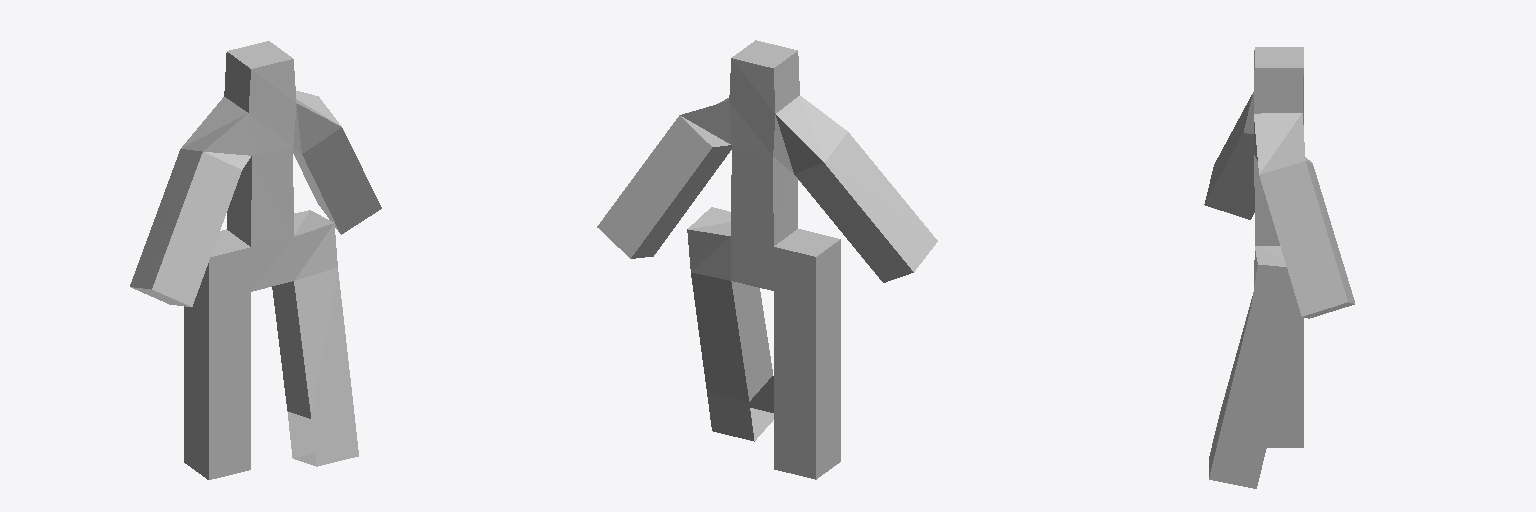
Rendered from cuboid_000003.obj.
3 renders of one model, left to right at view 1: azimuth 30°, elevation 25°; view 2: azimuth 150°, elevation 25°; view 3: azimuth 270°, elevation 25°, orthographic.
Parts seen in each view (by area): view 1: Cube; view 2: Cube; view 3: Cube.
Boxes of the visible parts, <box> form: Cube: <box>130,41,381,479</box>; Cube: <box>597,40,937,479</box>; Cube: <box>1204,47,1354,488</box>.
Size of the model in its own units: 3.22 by 4.5 by 1.54.